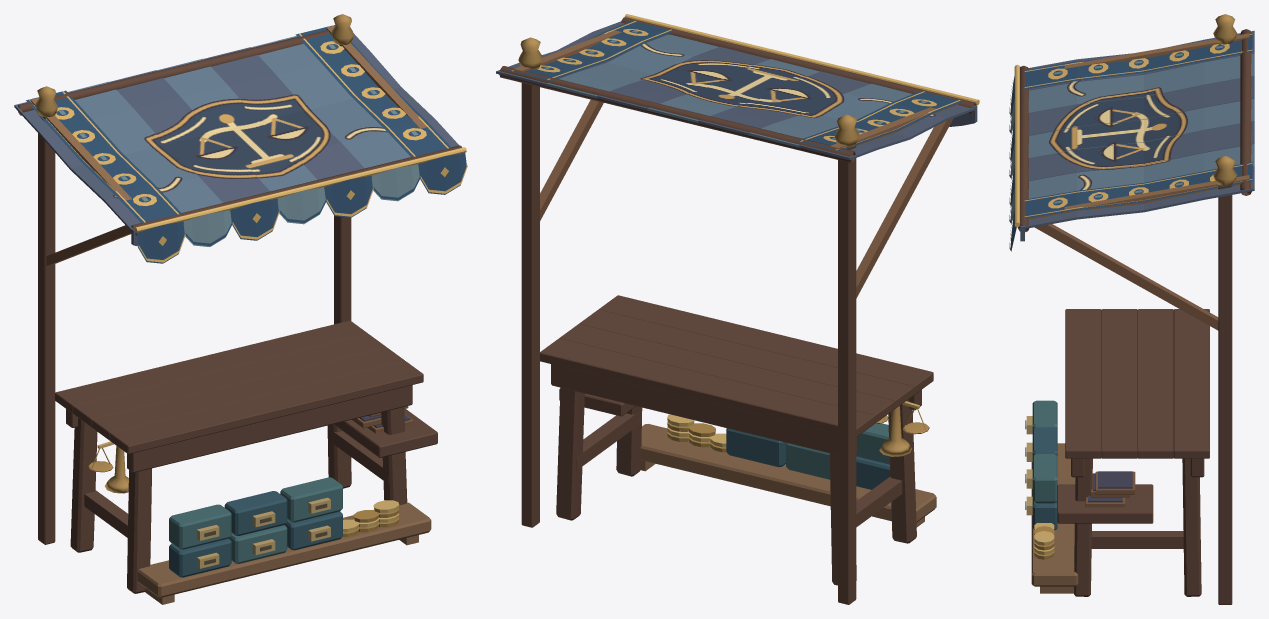
File: stall_raven.glb
The picture shows the model from 3 angles, left to right: view 1: azimuth 30°, elevation 25°; view 2: azimuth 150°, elevation 25°; view 3: azimuth 270°, elevation 25°; orthographic projection. The views are drawn at different scales.
Visible parts, largest first — view 1: stall_raven; view 2: stall_raven; view 3: stall_raven.
Boxes of the visible parts, <box> form: stall_raven: <box>14,14,467,604</box>; stall_raven: <box>496,14,979,604</box>; stall_raven: <box>1009,14,1254,604</box>.
Size of the model in its own units: 1.9 by 2.5 by 1.24.
Materials: 11 (1 with a texture image).
